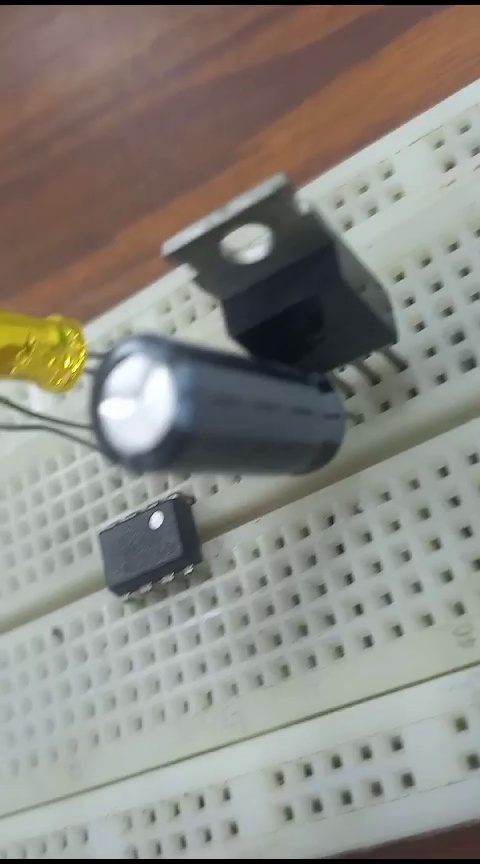IC: (90, 493, 199, 599)
LED: (3, 296, 86, 389)
capacitor: (100, 352, 354, 484)
voltage regulator: (159, 160, 406, 365)
